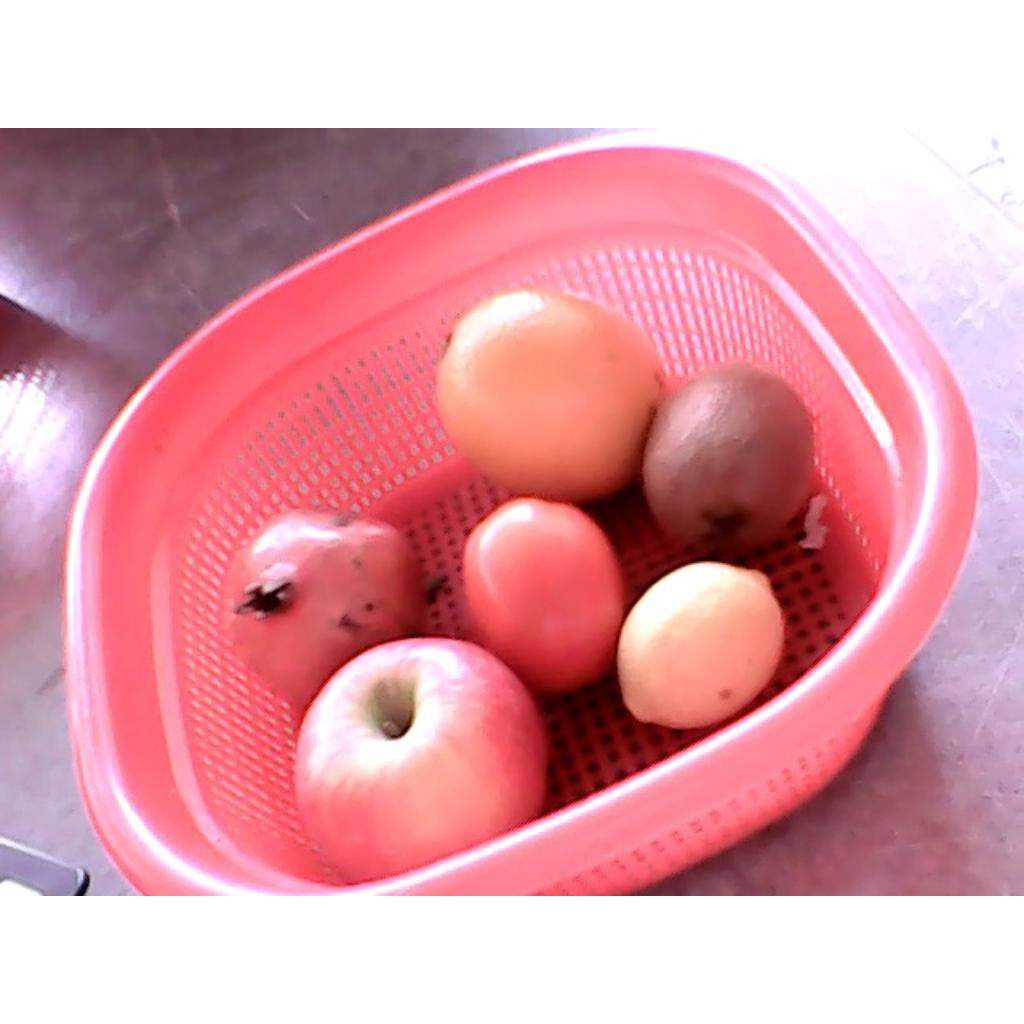apple: (294, 636, 549, 885)
kiwi: (643, 359, 811, 551)
lemon: (615, 561, 783, 729)
orange: (434, 288, 663, 501)
pomegranate: (218, 507, 428, 704)
tomato: (461, 498, 625, 693)
